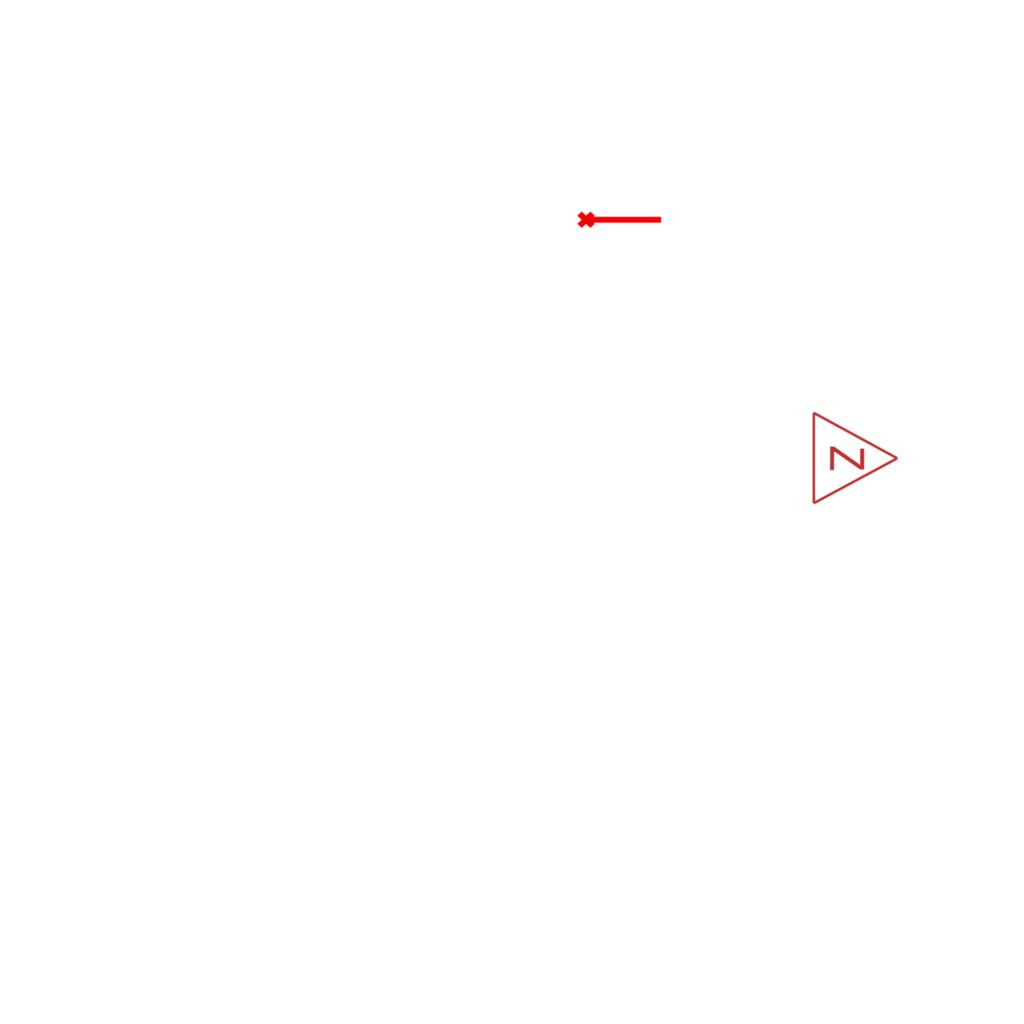ASR_Ansaugoeffnung: (576, 207, 664, 230)
Zimmersignalleuchte: (805, 408, 905, 506)
